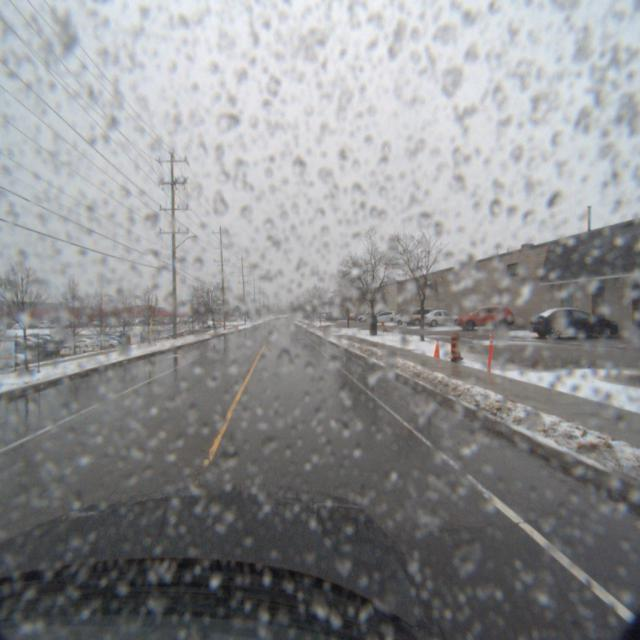Car: (519, 305, 619, 341), (448, 305, 514, 333), (415, 309, 463, 329), (400, 308, 444, 328), (365, 312, 393, 325)
